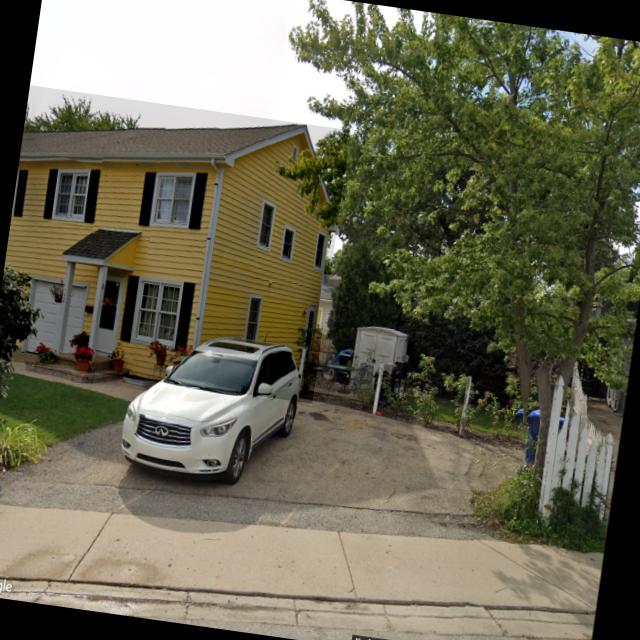House: (0, 85, 350, 403), (316, 274, 342, 330)
